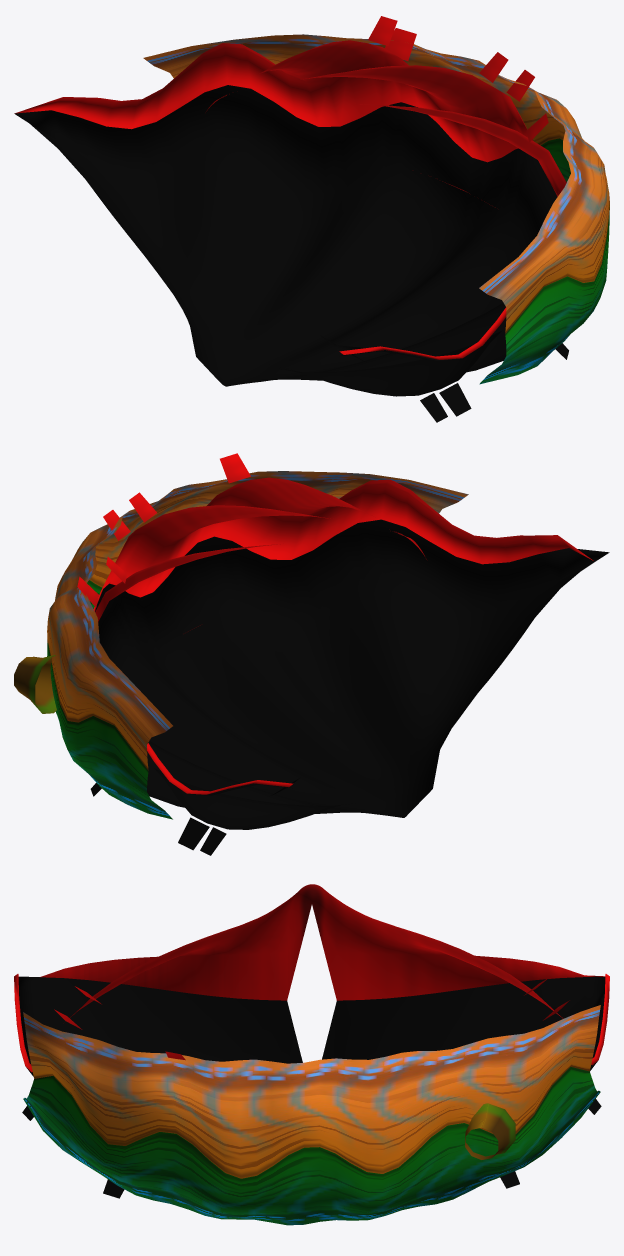
File: crocea_clam.glb
3 renders of one model, top to bottom at view 1: azimuth 30°, elevation 25°; view 2: azimuth 150°, elevation 25°; view 3: azimuth 270°, elevation 25°, orthographic. The views are drawn at different scales.
Parts seen in each view (by area): view 1: Shell, Mantle; view 2: Shell, Mantle; view 3: Mantle, Shell.
Boxes of the visible parts, box(x1,y1,x2,y2) form: Shell: box(14, 16, 568, 422); Mantle: box(143, 34, 609, 384); Shell: box(77, 453, 609, 855); Mantle: box(14, 471, 468, 819); Mantle: box(23, 1005, 600, 1225); Shell: box(14, 884, 609, 1198).
Size of the model in its own units: 0.6803 by 0.4793 by 1.
Materials: 2 (2 with a texture image).
